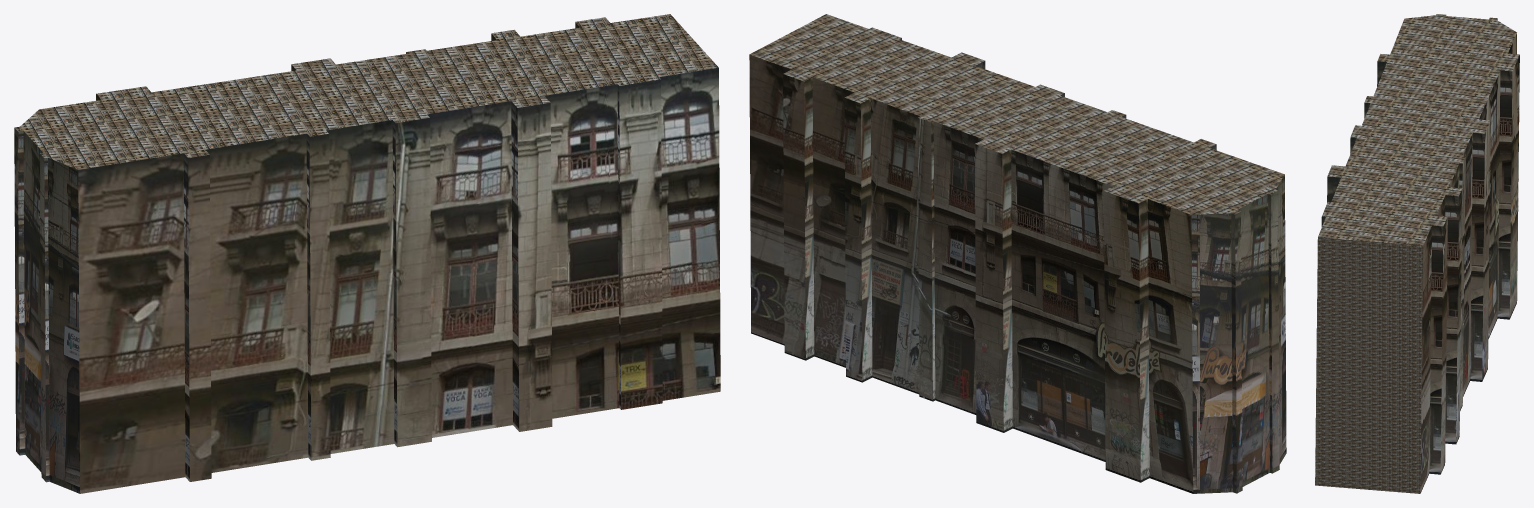
Rendered from CafePuro.fbx.
The picture shows the model from 3 angles, left to right: view 1: azimuth 30°, elevation 25°; view 2: azimuth 150°, elevation 25°; view 3: azimuth 270°, elevation 25°; orthographic projection. The views are drawn at different scales.
Visible parts, largest first — view 1: Model; view 2: Model; view 3: Model.
Part boxes in pixels (box(x1,y1,x2,y2)): Model: box(14, 14, 720, 493); Model: box(749, 14, 1286, 493); Model: box(1315, 14, 1519, 493).
Bounding box in the file's own units: 30.08 × 15.13 × 11.23.
